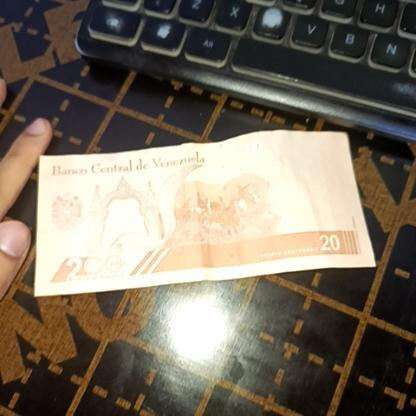twenty-back-vef: (36, 128, 378, 296)
